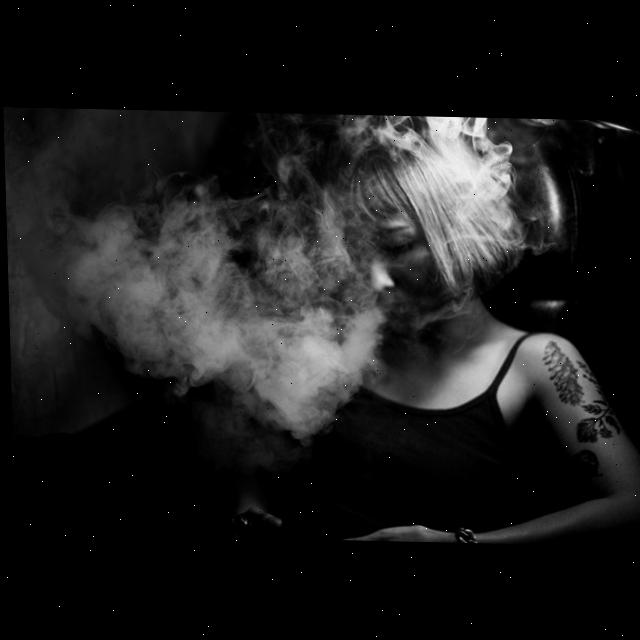vape: (226, 502, 282, 538)
